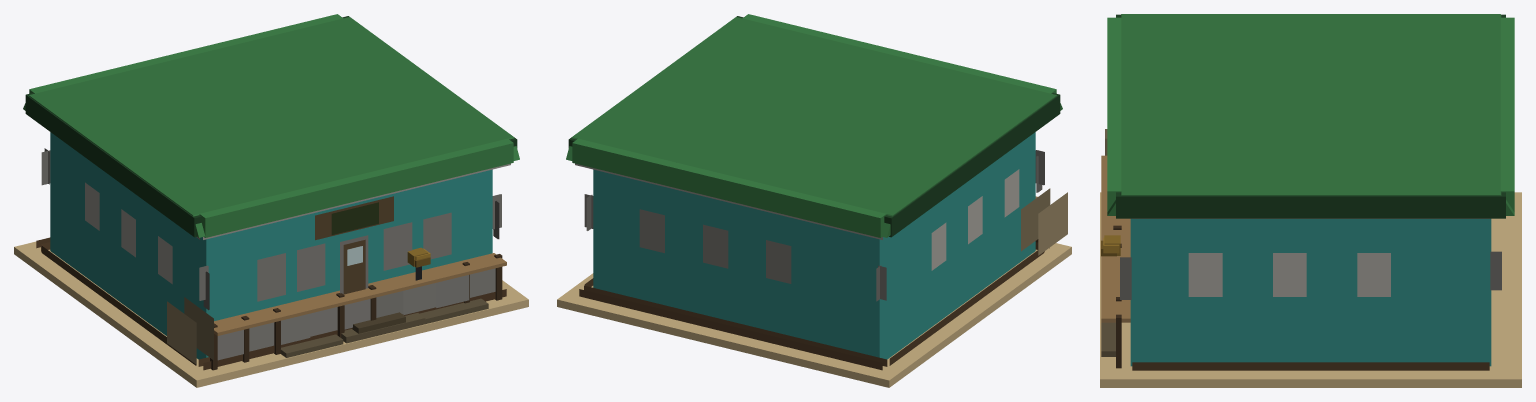
File: DuneTurtleSil.fbx
The picture shows the model from 3 angles, left to right: view 1: azimuth 30°, elevation 25°; view 2: azimuth 150°, elevation 25°; view 3: azimuth 270°, elevation 25°; orthographic projection. The views are drawn at different scales.
Parts seen in each view (by area): view 1: TH_S_All; view 2: TH_S_All; view 3: TH_S_All.
Boxes of the visible parts, box(x1,y1,x2,y2) form: TH_S_All: box(14, 14, 528, 387); TH_S_All: box(557, 14, 1071, 387); TH_S_All: box(1100, 14, 1521, 387).
Size of the model in its own units: 42.04 by 19.9 by 40.04.
